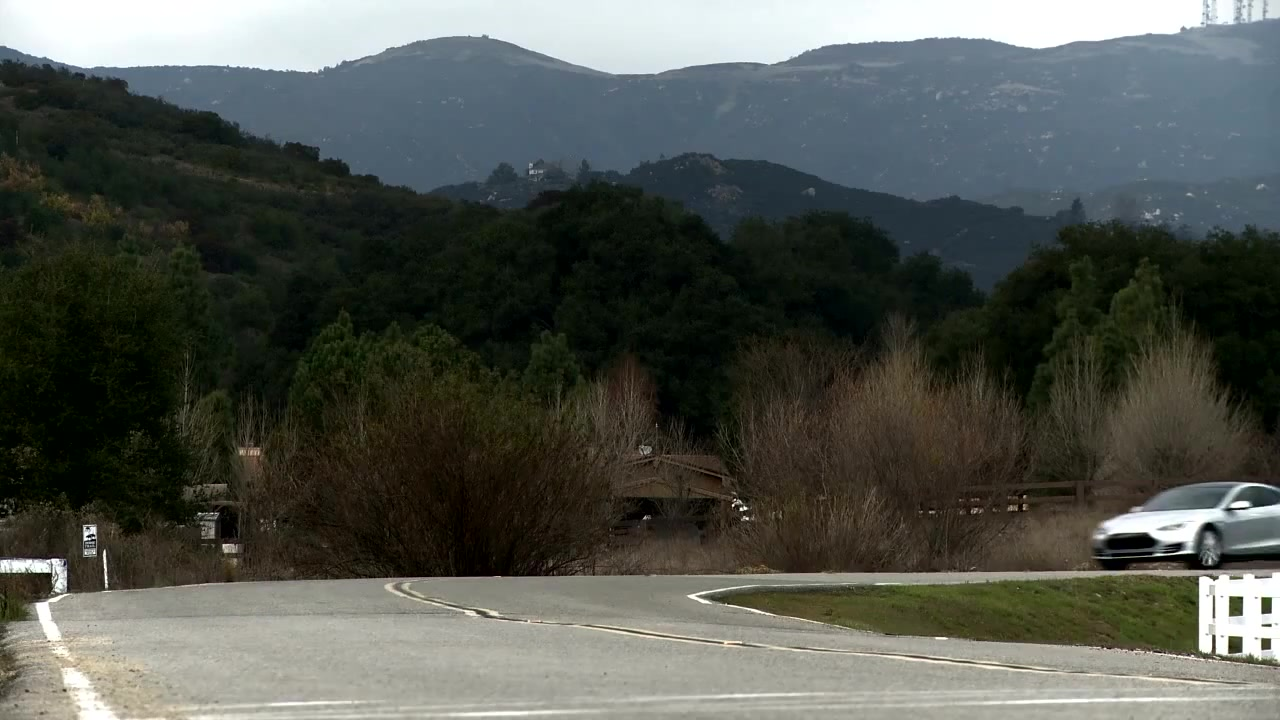car: (1081, 484, 1280, 571)
